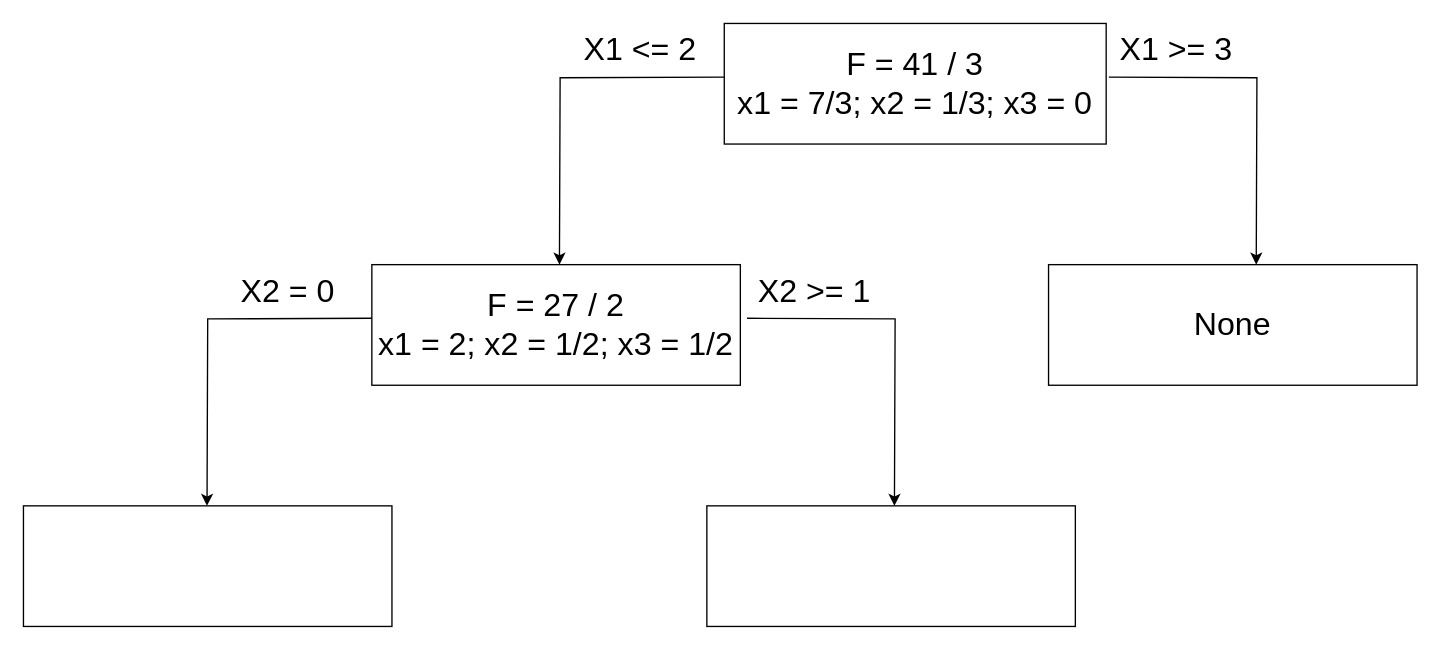
This 1441x650 diagram has some shape labels left out. The shapes that lost their labels are listed below. From the top down, each one's box as (x1, y1, x2, y2) in pixels, then its label:
(22, 505, 392, 626): F = 11 x1 = 2; x2 = 0; x3 = 1
(706, 505, 1075, 626): F = 13 x1 = 1; x2 = 1; x3 = 2
